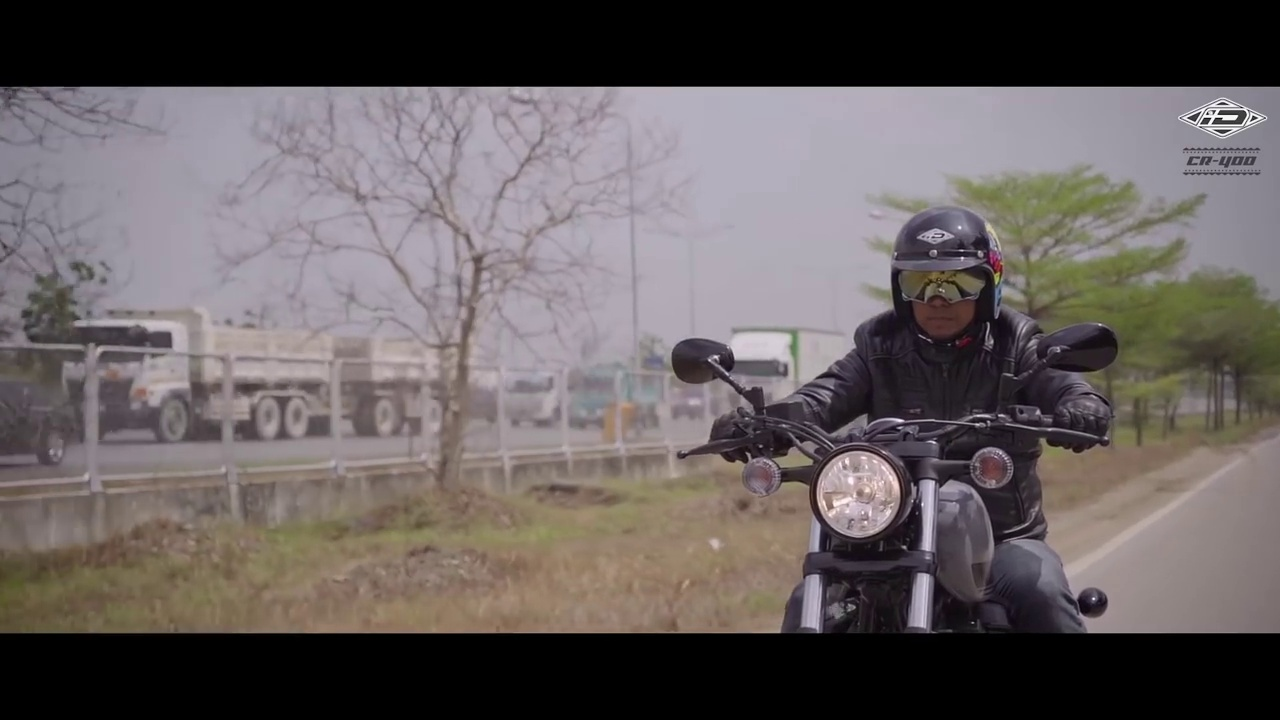helmet: (871, 198, 1017, 325)
